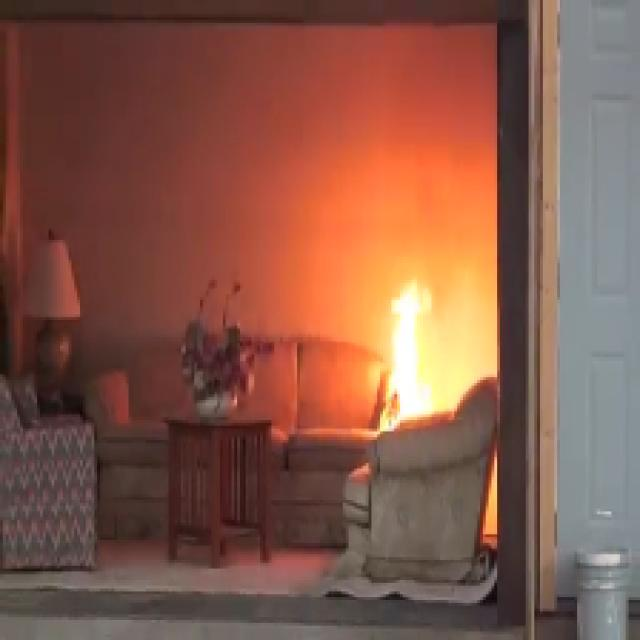fire: (381, 274, 444, 429)
